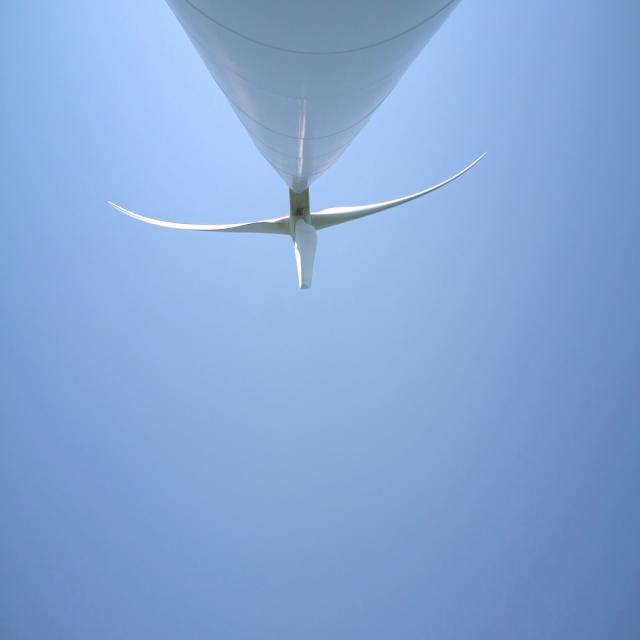blade 1: (349, 149, 492, 241)
blade 2: (86, 190, 289, 260)
blade 3: (292, 240, 348, 298)
